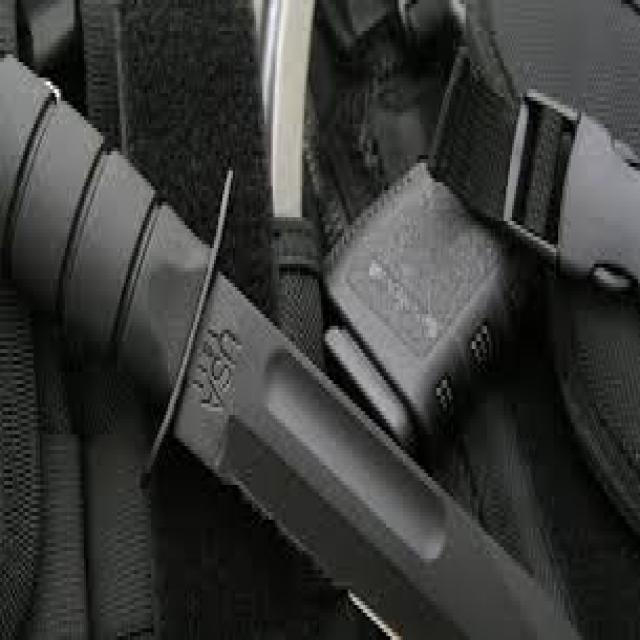knives: (93, 128, 504, 640)
